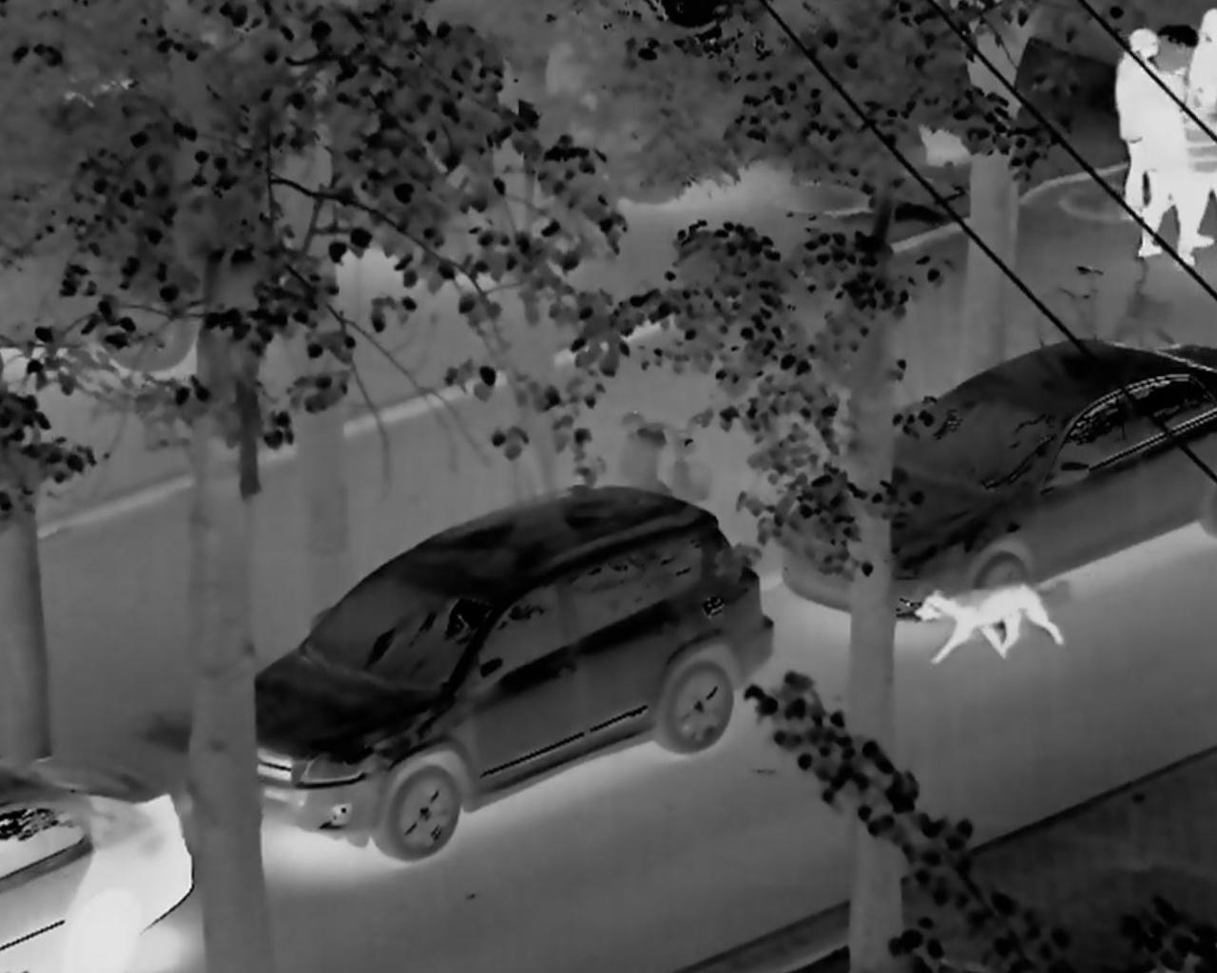person: (1145, 38, 1205, 272), (1108, 5, 1170, 228), (1182, 6, 1217, 243)
